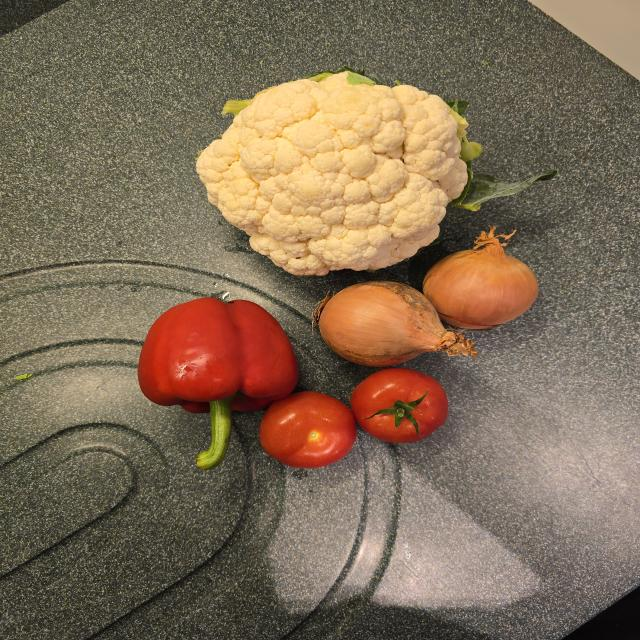Bell Pepper: (138, 298, 298, 469)
Cauliflower: (196, 70, 510, 275)
Onion: (318, 281, 477, 367), (422, 227, 538, 330)
Tomato: (259, 392, 356, 468), (351, 368, 448, 443)
